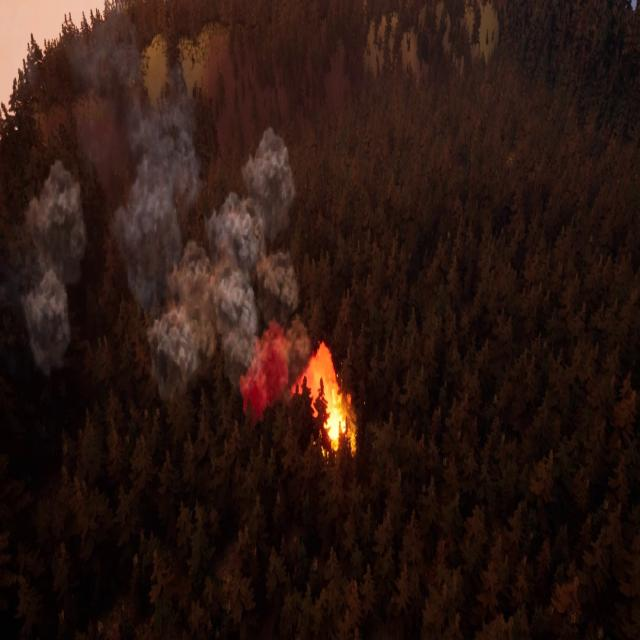fire: (292, 339, 351, 456)
smoke: (27, 18, 298, 421)
